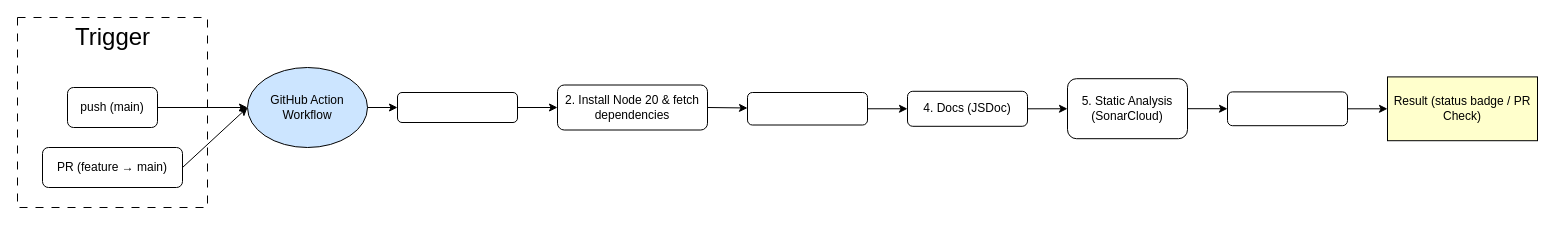
Image size: 1555x225. Some labels were removed from this diagram. Each missing label, with the centre of its shape:
"3. Lint/Style (ESLint)" goes at point (807, 108).
"6. Tests (Jest)" goes at point (1287, 108).
"Checkout Code" goes at point (457, 107).
